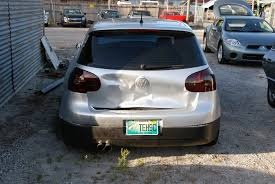Dent: (91, 72, 191, 109)
